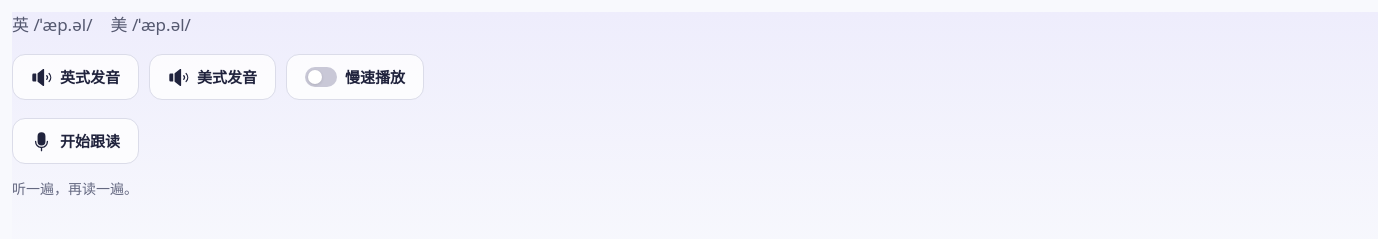
Test case: PronunciationControls › uses a prepared UK voice synchronously while US preparation is pending
Click the button with aria-label "播放英式发音".
click(76, 77)  # box [12,54,139,100]
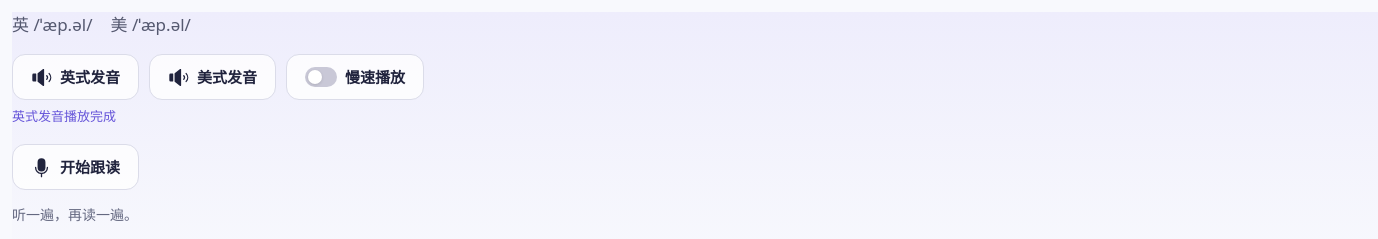
Expected: the text "英式发音播放完成" is shown, [12,107,116,125]
